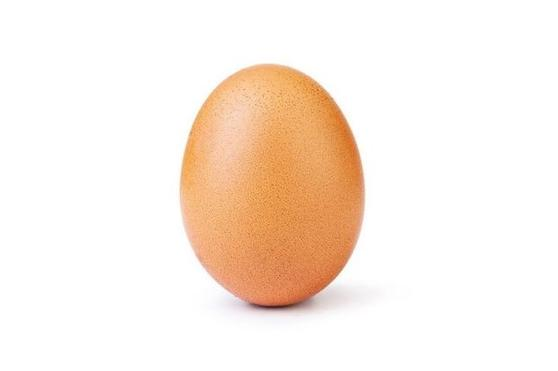egg: (178, 61, 366, 310)
